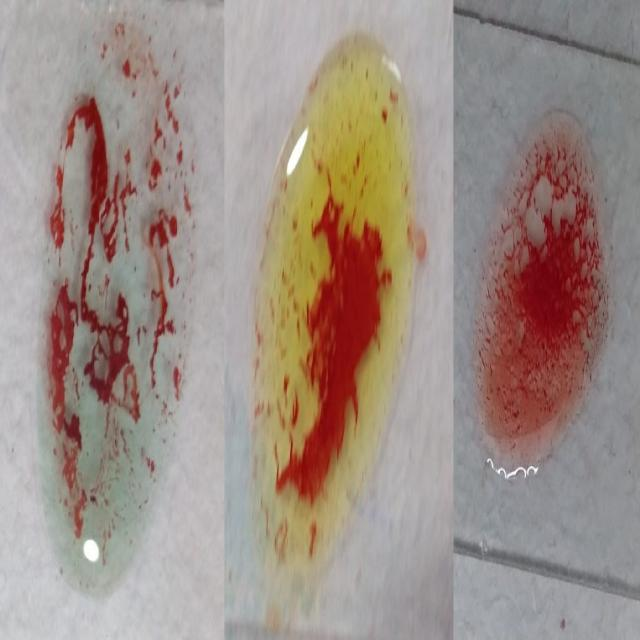A: (38, 33, 191, 583)
B: (253, 24, 407, 586)
D: (470, 123, 610, 482)
